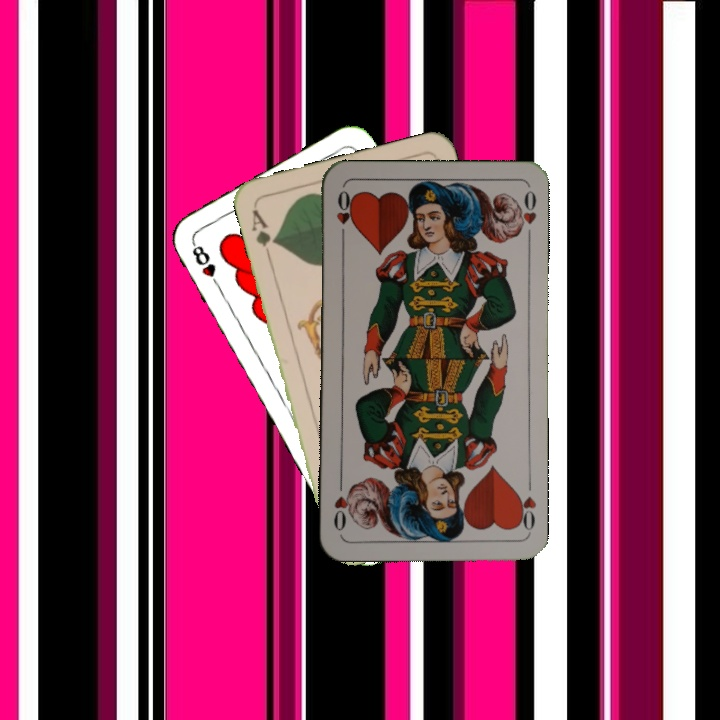GA: (247, 205, 279, 261)
H8: (187, 238, 224, 292)
HO: (512, 486, 539, 535), (333, 187, 354, 245)
